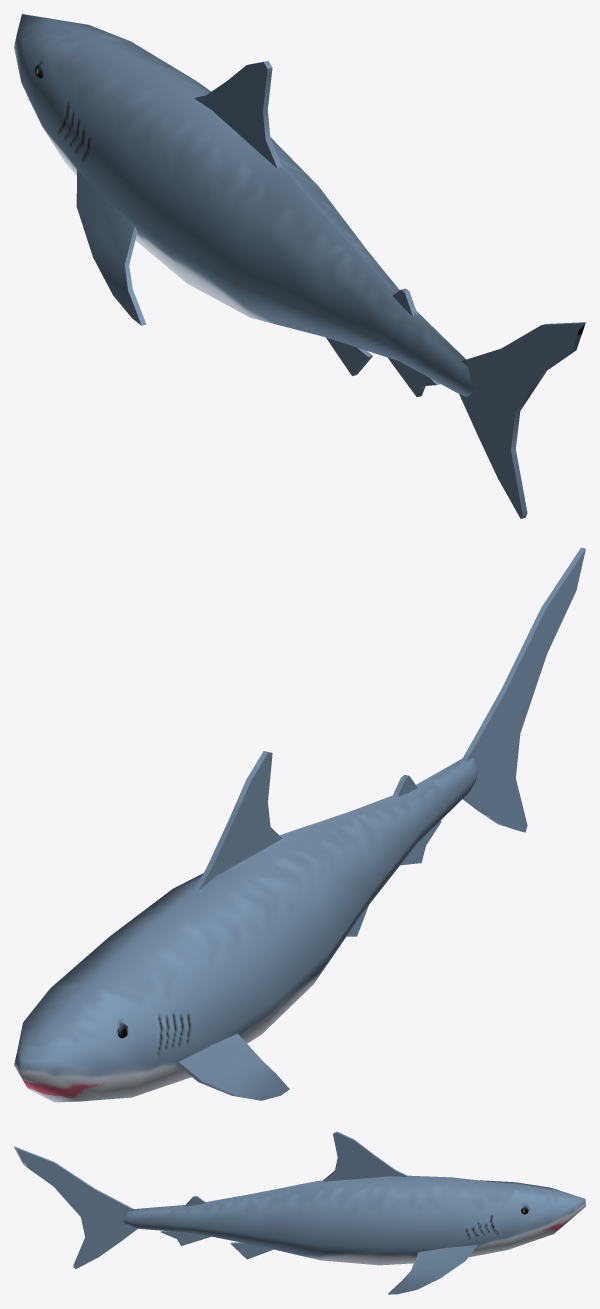
Rendered from Shork.glb.
3 renders of one model, top to bottom at view 1: azimuth 30°, elevation 25°; view 2: azimuth 150°, elevation 25°; view 3: azimuth 270°, elevation 25°, orthographic. The views are drawn at different scales.
Visible parts, largest first — view 1: Cube; view 2: Cube; view 3: Cube.
Boxes of the visible parts, bbox=[...] form: Cube: bbox=[14, 14, 585, 518]; Cube: bbox=[14, 547, 585, 1102]; Cube: bbox=[14, 1131, 585, 1294].
Bounding box in the file's own units: 0.7596 × 1.39 × 4.98.
Materials: 1 (1 with a texture image).
